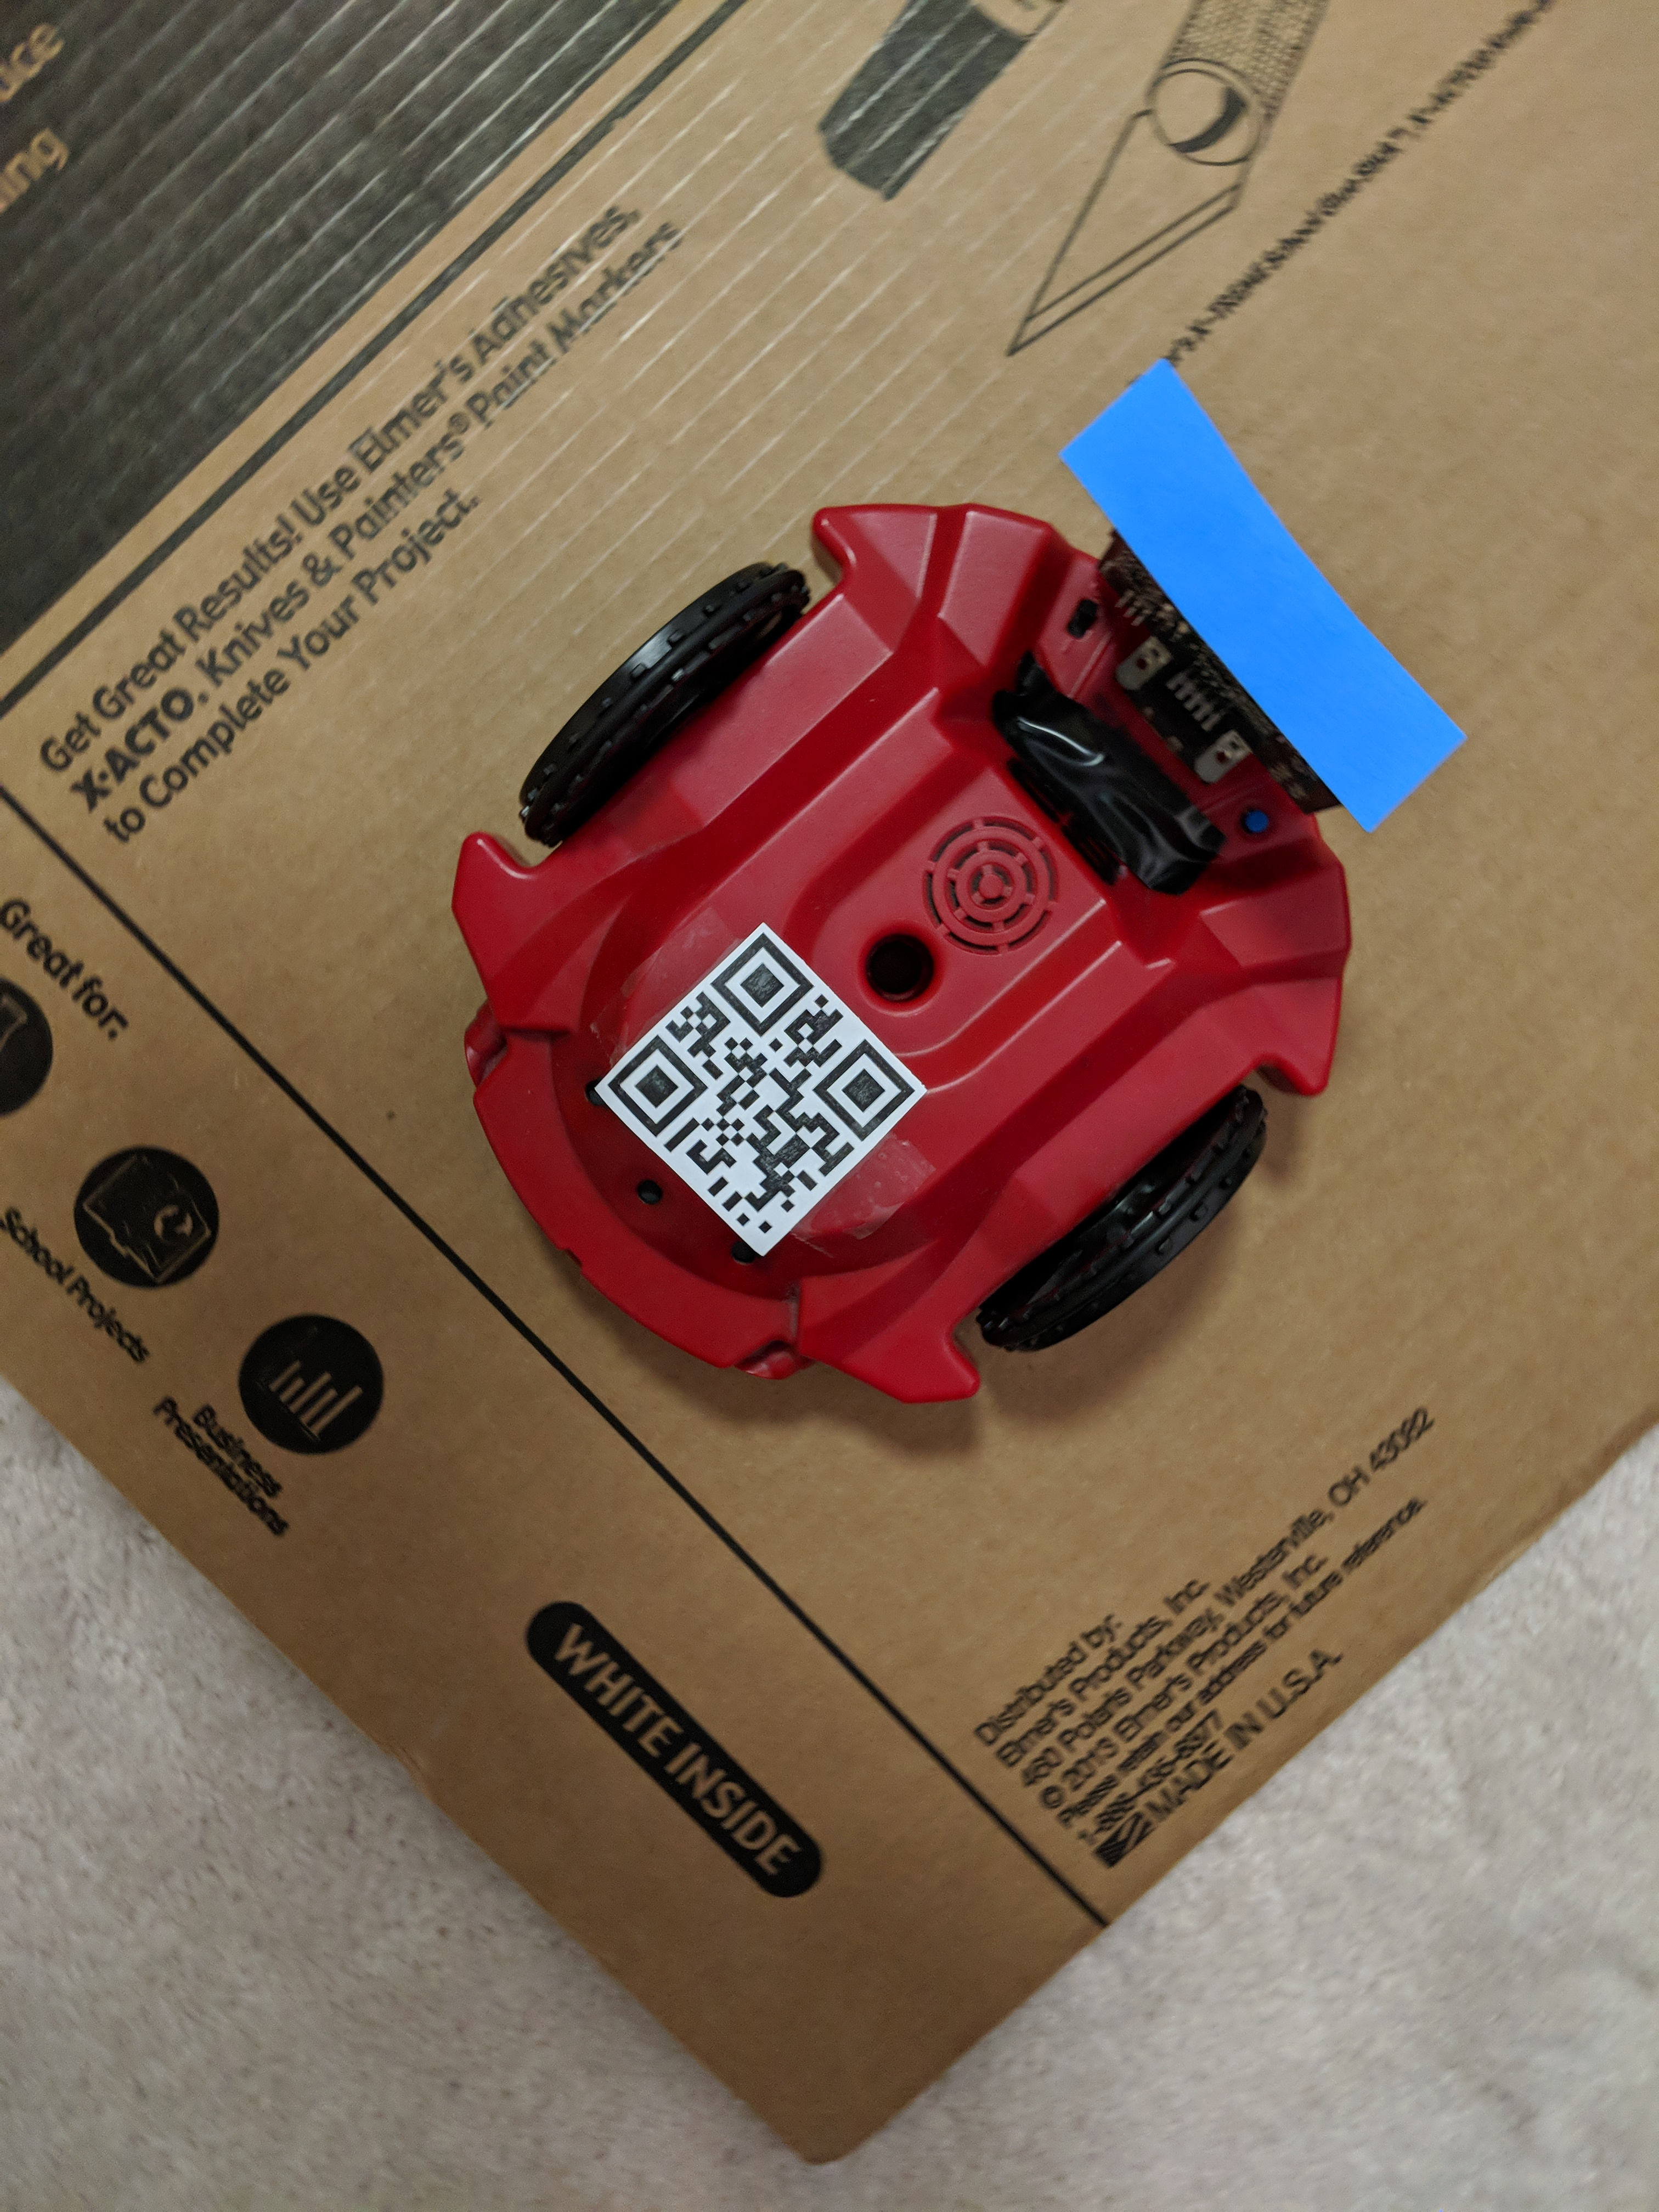chassis: (448, 340, 1406, 1409)
qr: (556, 918, 931, 1284)
